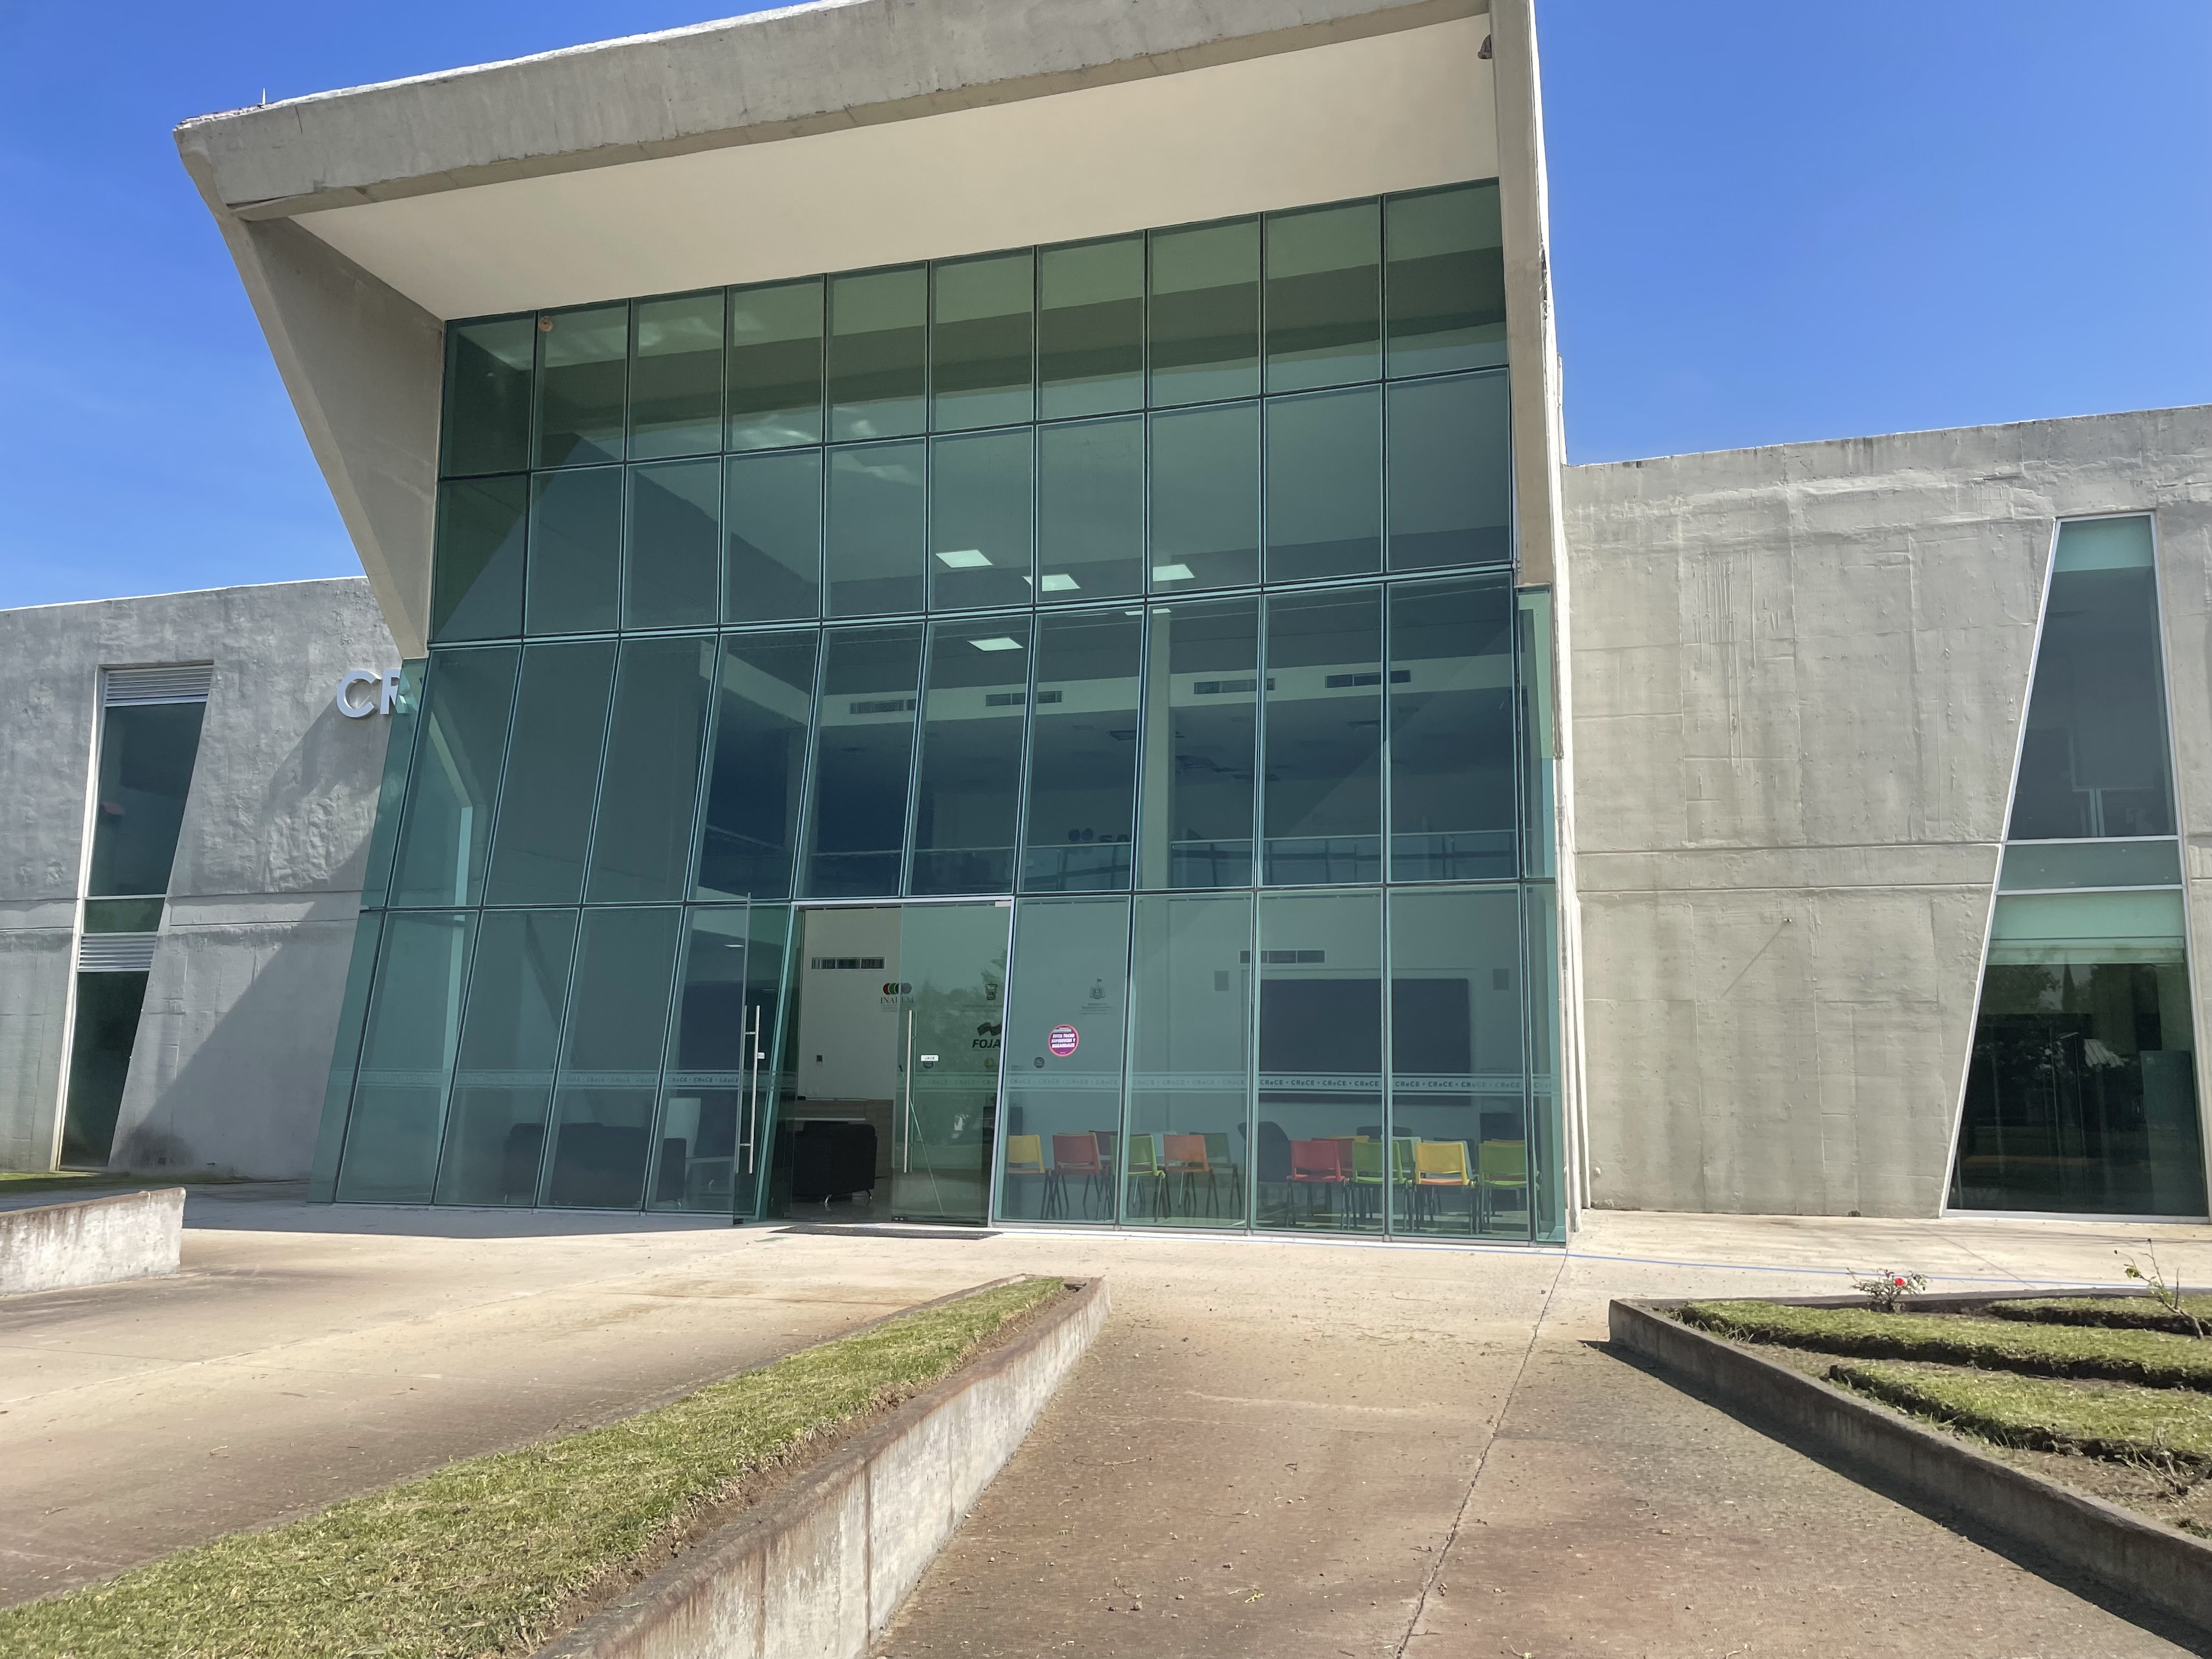crece: (24, 0, 2210, 1290)
